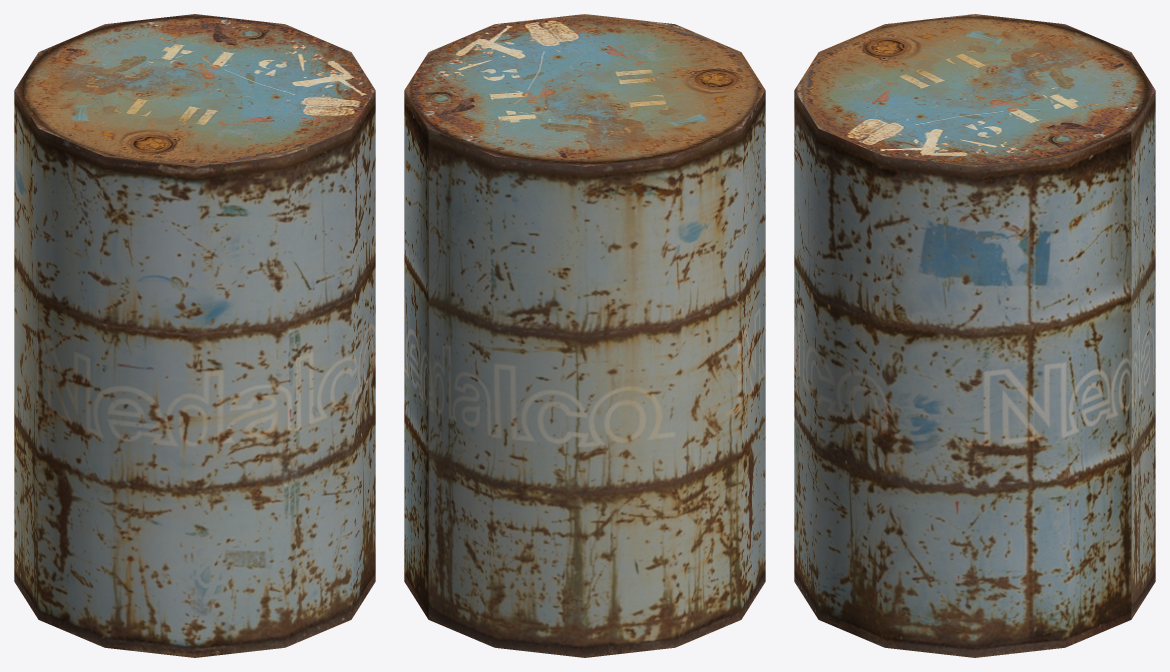
Rendered from Barrel.FBX.
3 views of the same model, side by side, from view 1: azimuth 30°, elevation 25°; view 2: azimuth 150°, elevation 25°; view 3: azimuth 270°, elevation 25° (orthographic).
Visible parts, largest first — view 1: Cylinder001; view 2: Cylinder001; view 3: Cylinder001.
Part boxes in pixels (x1,y1,x2,y2): Cylinder001: [14, 14, 375, 657]; Cylinder001: [404, 14, 765, 657]; Cylinder001: [794, 14, 1155, 657].
Size of the model in its own units: 60 by 90 by 60.
Materials: 1 (1 with a texture image).
